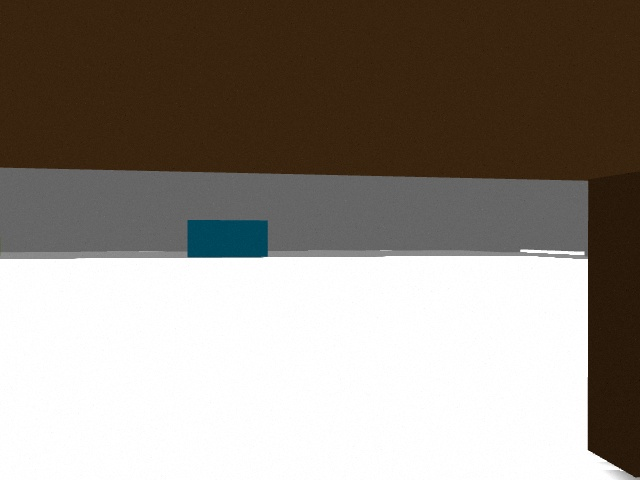blue_drop_zone: (187, 220, 268, 257)
